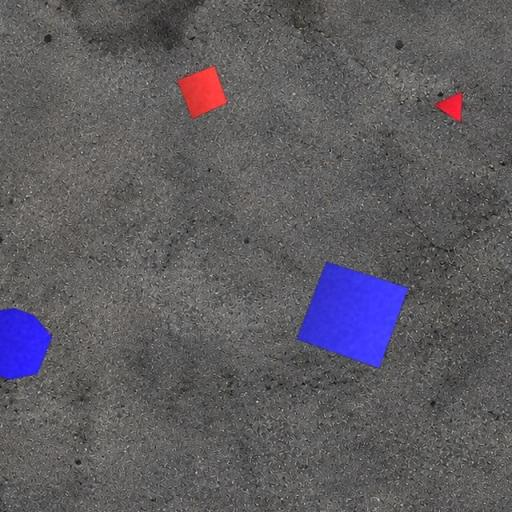BLUE_SQUARE: (296, 261, 410, 369)
RED_SQUARE: (177, 65, 228, 120)
